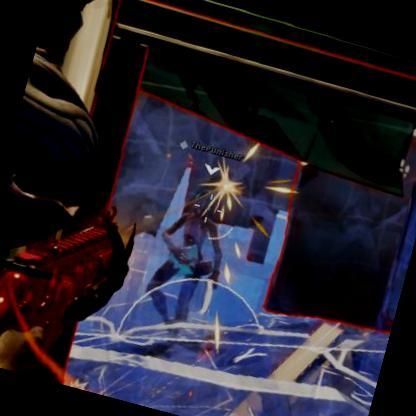person: (152, 180, 232, 310)
